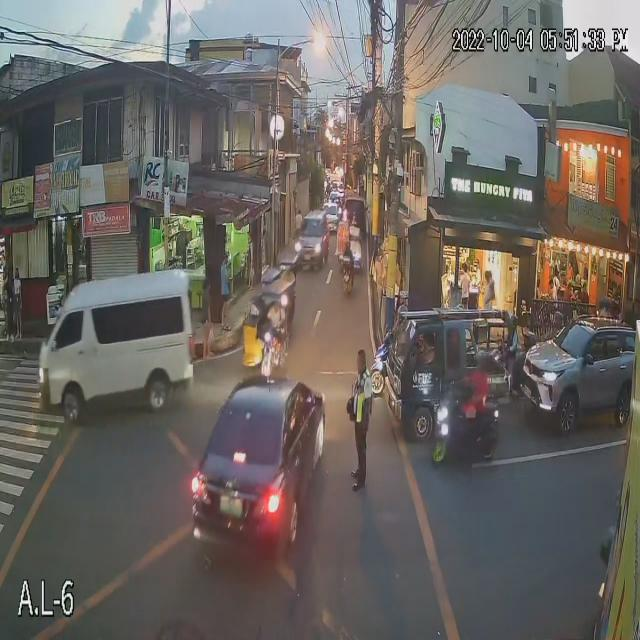helmet: (506, 312, 529, 329), (393, 303, 411, 324), (472, 354, 489, 374), (343, 242, 352, 254)
motorcycle: (428, 402, 504, 466), (362, 351, 423, 398), (482, 347, 544, 387)
rider: (460, 372, 490, 416), (392, 325, 413, 368), (506, 329, 528, 360), (341, 250, 355, 274)
